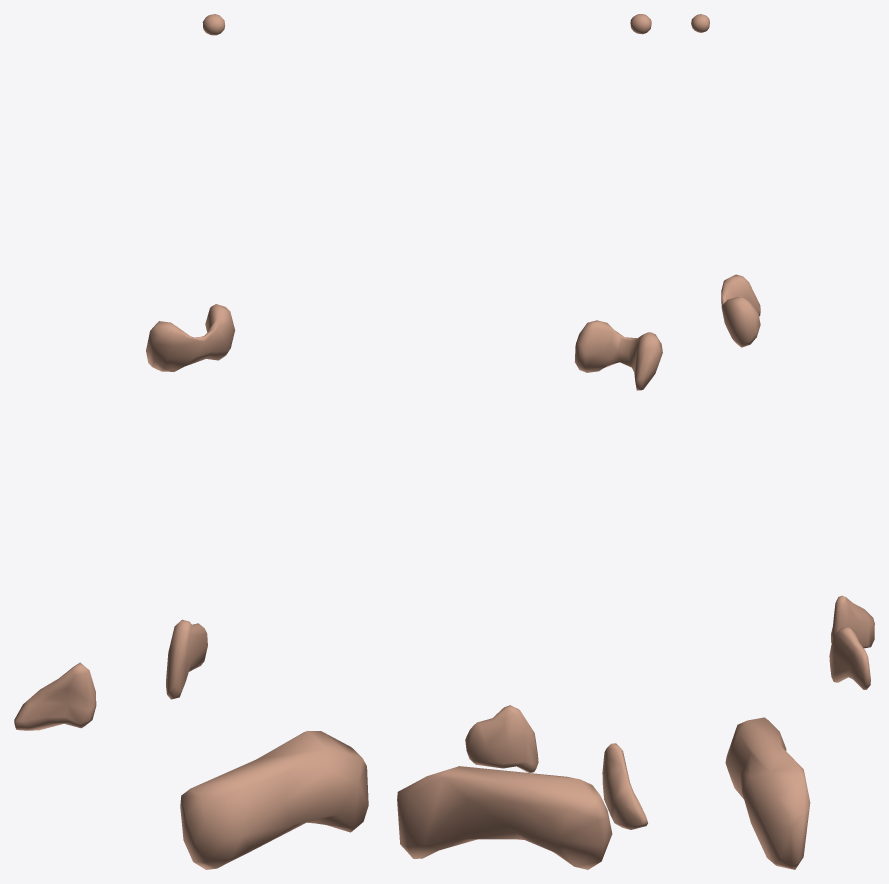
File: pediatric_child_5y_female.endocrine.LOD2.glb
The picture shows the model from 3 angles, left to right: view 1: azimuth 30°, elevation 25°; view 2: azimuth 150°, elevation 25°; view 3: azimuth 270°, elevation 25°; orthographic projection. The views are drawn at different scales.
Parts seen in each view (by area): view 1: PEDIATRIC.CHILD_5Y.FEMALE.ENDOCRINE.PANCREAS, PEDIATRIC.CHILD_5Y.FEMALE.ENDOCRINE.THYROID, PEDIATRIC.CHILD_5Y.FEMALE.ENDOCRINE.ADRENAL.R, PEDIATRIC.CHILD_5Y.FEMALE.ENDOCRINE.ADRENAL.L; view 2: PEDIATRIC.CHILD_5Y.FEMALE.ENDOCRINE.PANCREAS, PEDIATRIC.CHILD_5Y.FEMALE.ENDOCRINE.THYROID, PEDIATRIC.CHILD_5Y.FEMALE.ENDOCRINE.ADRENAL.L, PEDIATRIC.CHILD_5Y.FEMALE.ENDOCRINE.ADRENAL.R; view 3: PEDIATRIC.CHILD_5Y.FEMALE.ENDOCRINE.PANCREAS, PEDIATRIC.CHILD_5Y.FEMALE.ENDOCRINE.THYROID, PEDIATRIC.CHILD_5Y.FEMALE.ENDOCRINE.ADRENAL.L, PEDIATRIC.CHILD_5Y.FEMALE.ENDOCRINE.ADRENAL.R.
Part boxes in pixels (x1,y1,x2,y2): PEDIATRIC.CHILD_5Y.FEMALE.ENDOCRINE.PANCREAS: (180,731,368,869); PEDIATRIC.CHILD_5Y.FEMALE.ENDOCRINE.THYROID: (146,304,235,371); PEDIATRIC.CHILD_5Y.FEMALE.ENDOCRINE.ADRENAL.R: (14,662,96,730); PEDIATRIC.CHILD_5Y.FEMALE.ENDOCRINE.ADRENAL.L: (166,619,207,699); PEDIATRIC.CHILD_5Y.FEMALE.ENDOCRINE.PANCREAS: (397,766,612,869); PEDIATRIC.CHILD_5Y.FEMALE.ENDOCRINE.THYROID: (574,320,662,390); PEDIATRIC.CHILD_5Y.FEMALE.ENDOCRINE.ADRENAL.L: (465,705,538,773); PEDIATRIC.CHILD_5Y.FEMALE.ENDOCRINE.ADRENAL.R: (602,743,647,829); PEDIATRIC.CHILD_5Y.FEMALE.ENDOCRINE.PANCREAS: (725,717,810,869); PEDIATRIC.CHILD_5Y.FEMALE.ENDOCRINE.THYROID: (721,274,760,347); PEDIATRIC.CHILD_5Y.FEMALE.ENDOCRINE.ADRENAL.L: (829,627,870,689); PEDIATRIC.CHILD_5Y.FEMALE.ENDOCRINE.ADRENAL.R: (831,595,874,648).
Bounding box in the file's own units: 0.1278 × 0.3546 × 0.0761.
